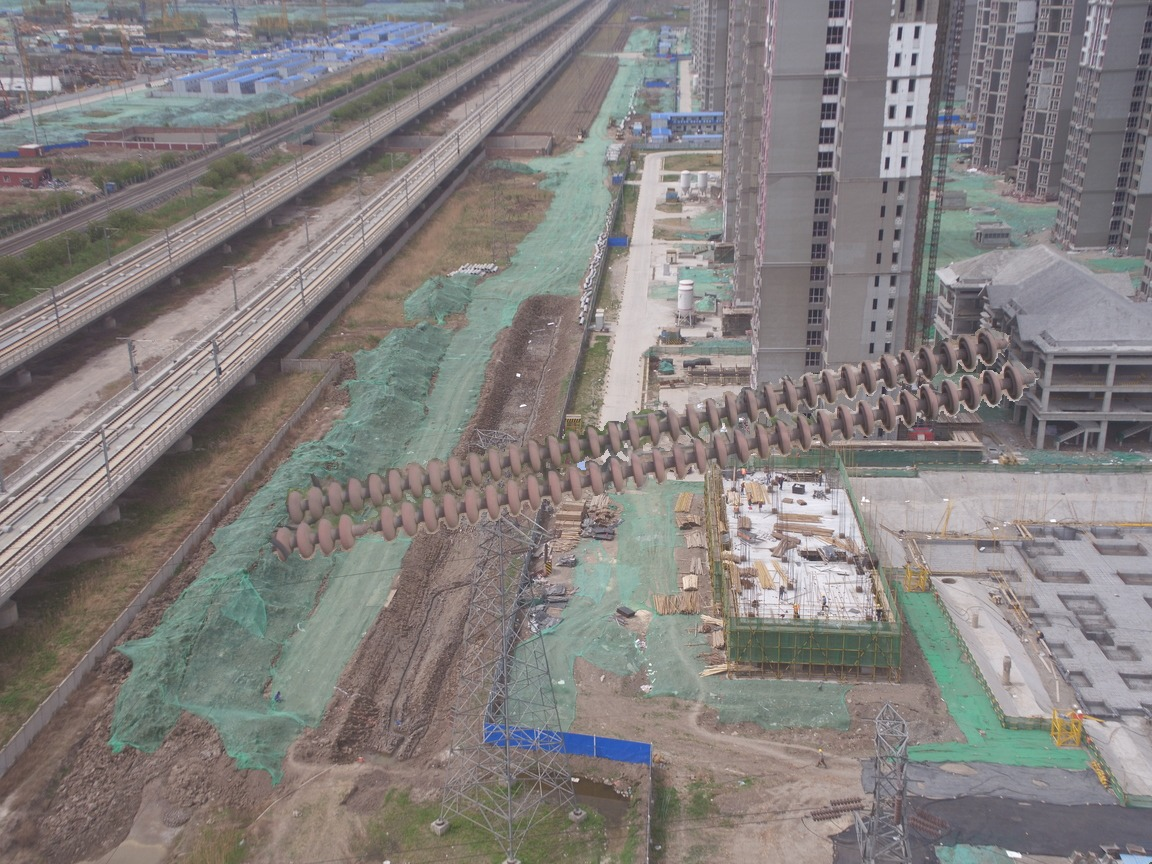defect: (332, 501, 400, 550)
